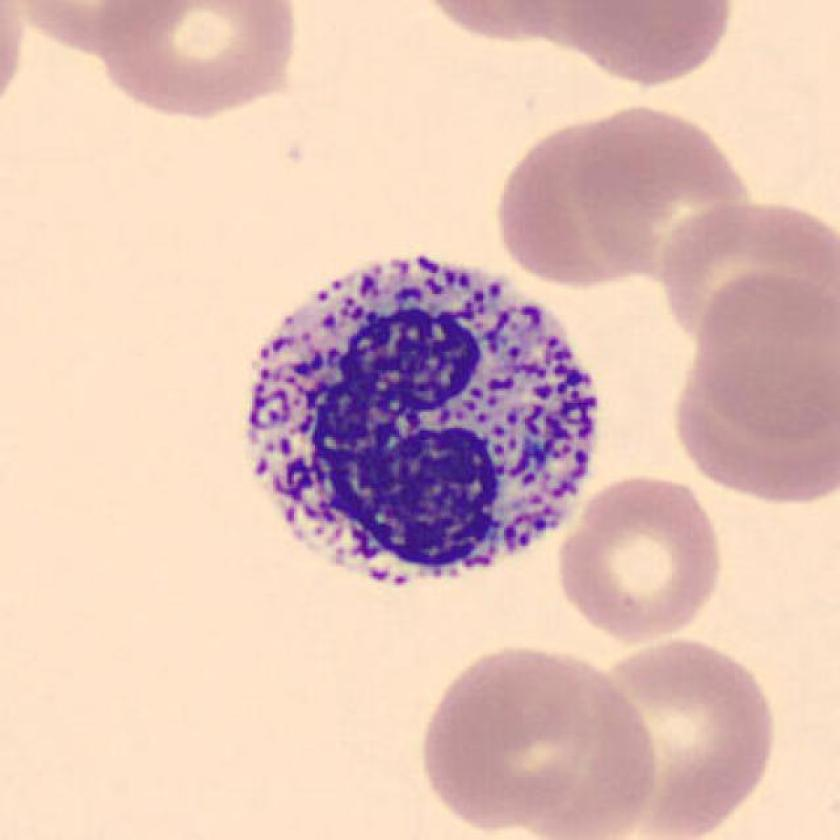neutrophil: (248, 256, 598, 584)
